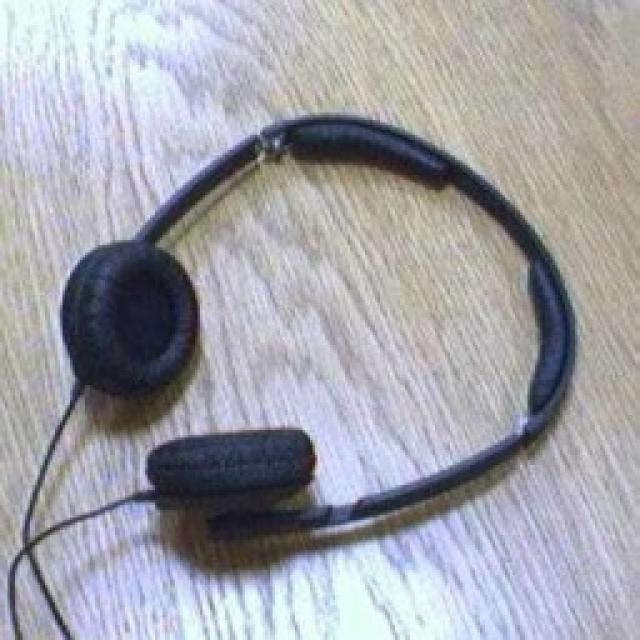headphones: (58, 110, 578, 538)
